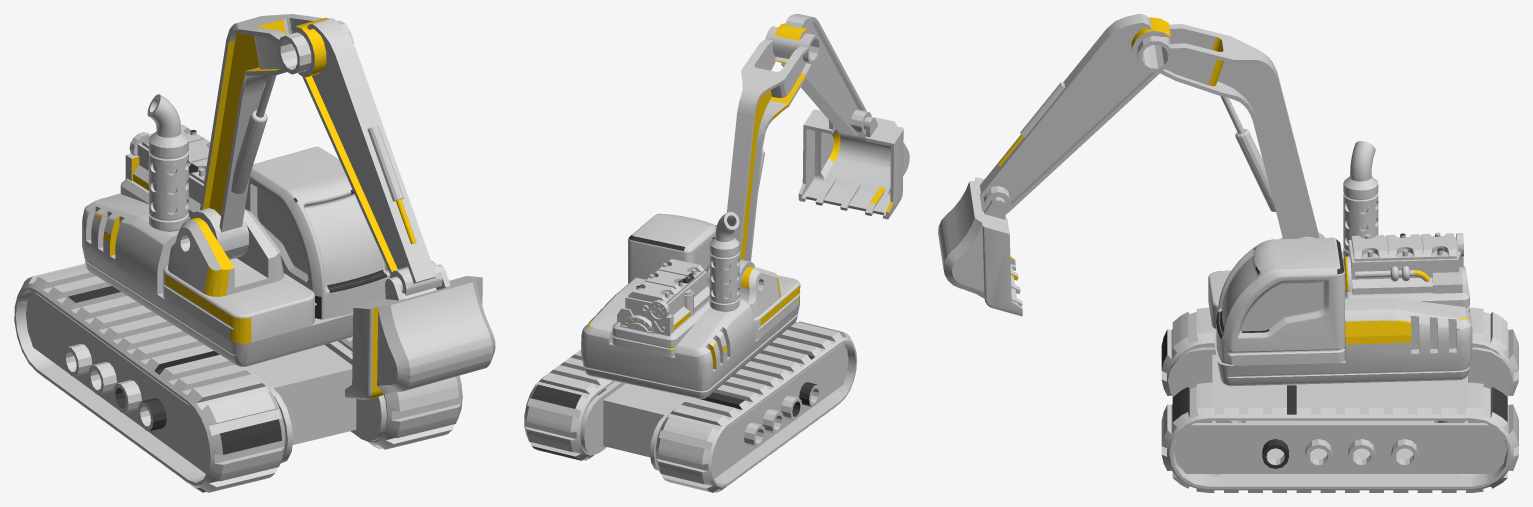
Rendered from excv.gltf.
3 views of the same model, side by side, from view 1: azimuth 30°, elevation 25°; view 2: azimuth 150°, elevation 25°; view 3: azimuth 270°, elevation 25° (orthographic). The views are drawn at different scales.
Parts seen in each view (by area): view 1: Asset3DLoader.sceneRoot (×22); view 2: Asset3DLoader.sceneRoot (×14); view 3: Asset3DLoader.sceneRoot (×16).
Part boxes in pixels (bbox=[...]): Asset3DLoader.sceneRoot (×22): bbox=[14, 14, 495, 492]; Asset3DLoader.sceneRoot (×14): bbox=[524, 14, 909, 492]; Asset3DLoader.sceneRoot (×16): bbox=[938, 14, 1518, 492].
Size of the model in its own units: 0.097 by 0.169 by 0.2159.
